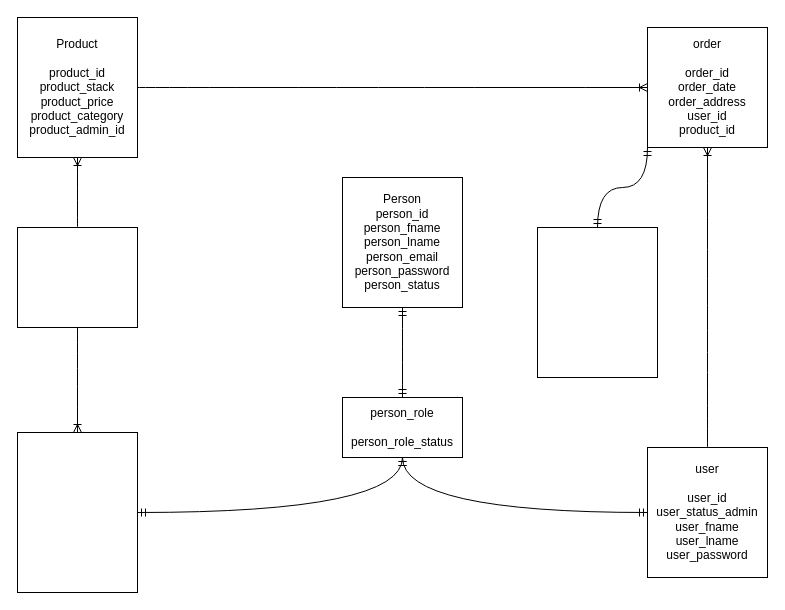
This 785x610 diagram has some shape labels left out. The shapes that lost their labels are listed below. From the top down, each one's centre as x and y in pixels, then its label:
At pixel 77 277: "admin_product prodcut_id admin_id".
At pixel 597 302: "invoice invoice_id order_id user_id invoice_date invoice_address invoice_payment".
At pixel 77 512: "admin admin_id admin_status admin_fname admin_lname admin_password".
